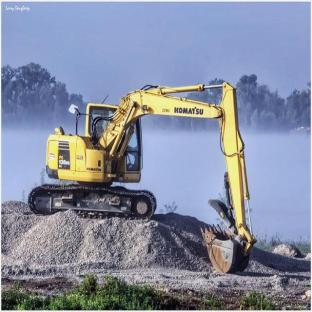ExcavationMachinery: (49, 83, 272, 271)
